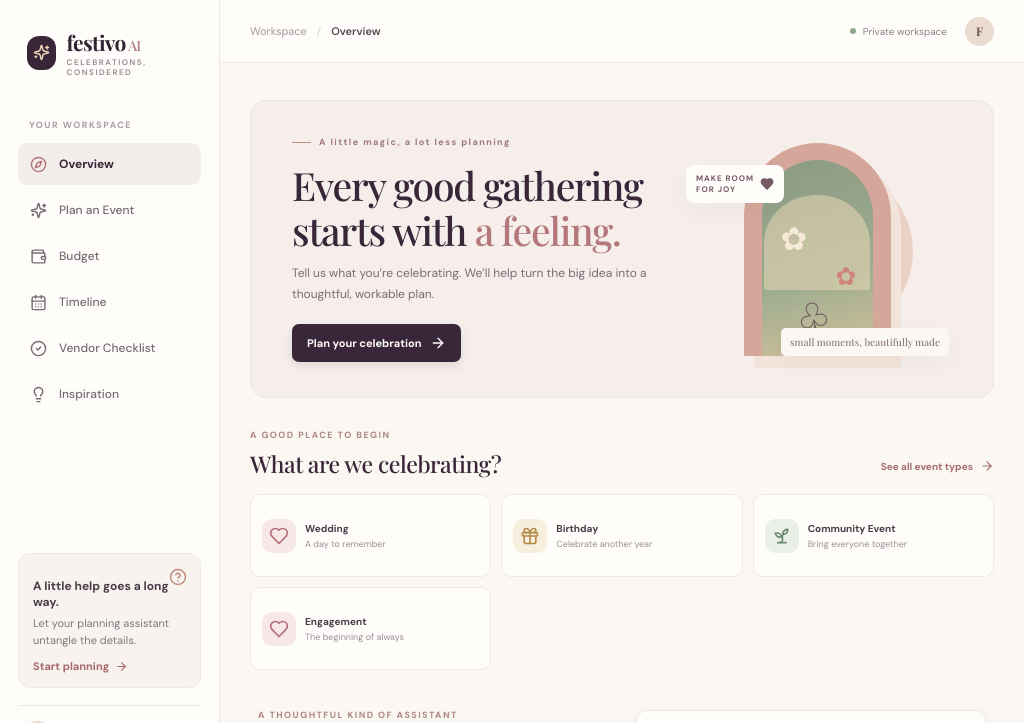
Test: planning workflow › flags missing required information accessibly
Click the button "Plan your celebration" at (377, 344), box x1=292 y1=324 x2=462 y2=362
(page scrolled)
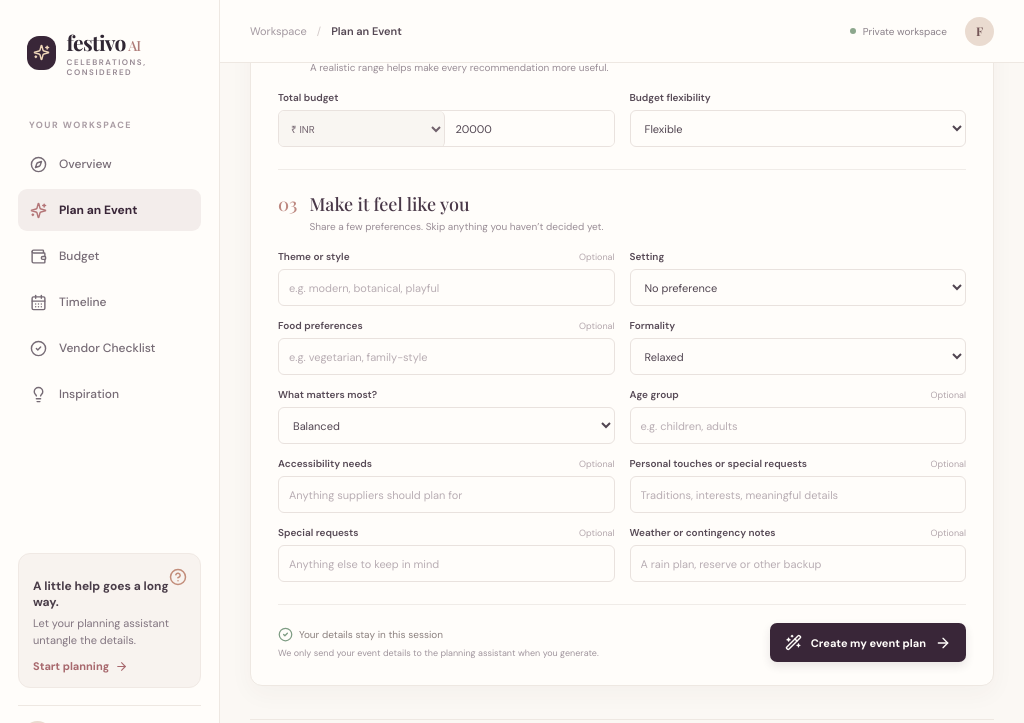
Click the button "Create my event plan" at (868, 643), box x1=770 y1=623 x2=966 y2=662
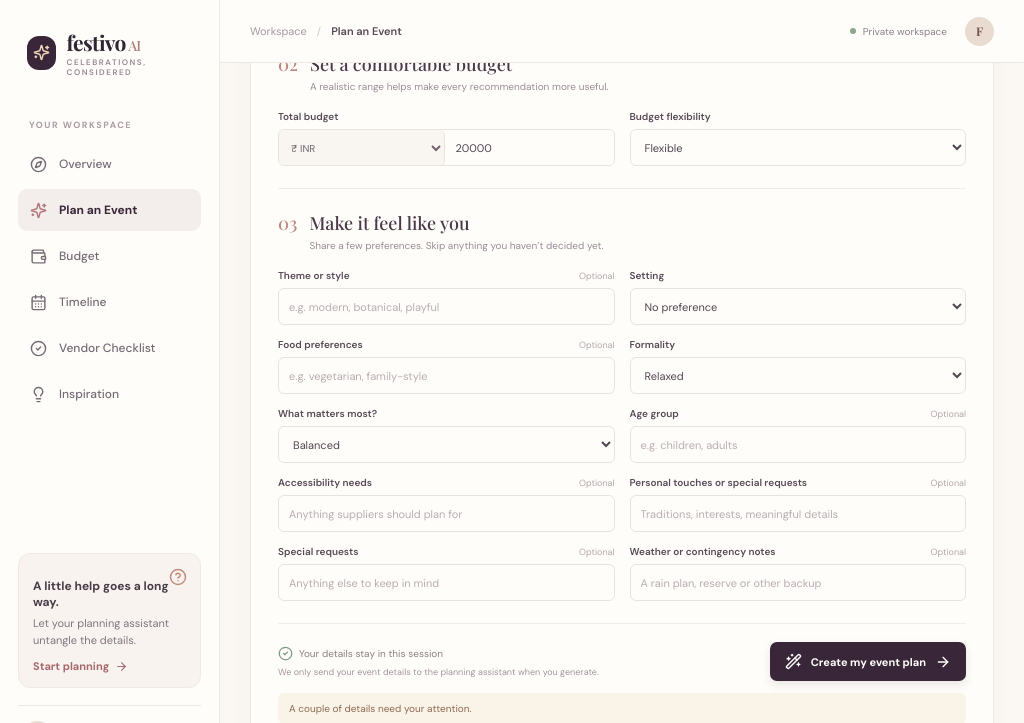
Expected: the message shows "details need your attention", x1=289 y1=702 x2=472 y2=715
